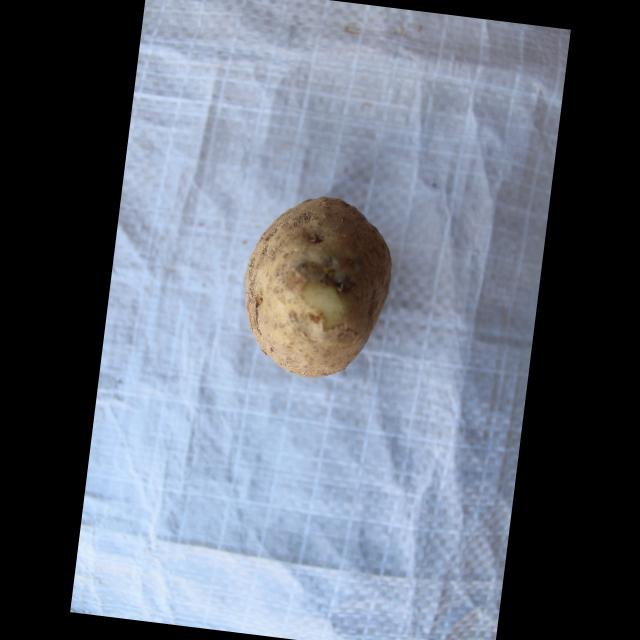Damaged potato: (230, 186, 402, 392)
